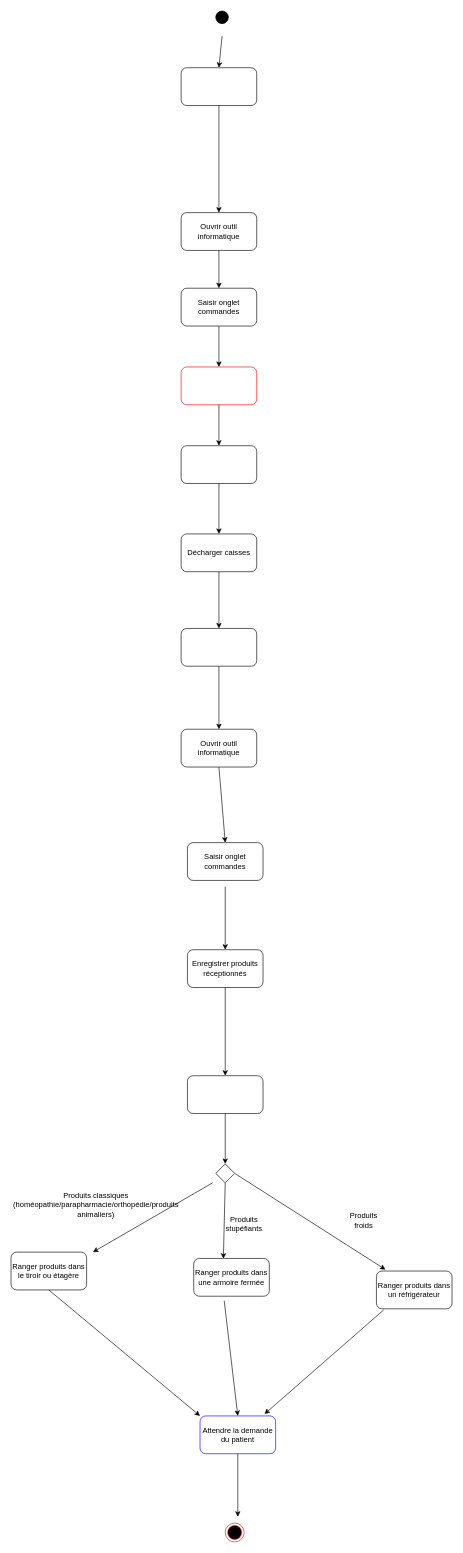
The diagram is 463 pixels wide and 1553 high, and some of its shapes have lost their labels. Here are the shapes that lost their labels. From the top down, the centre of each, then its label:
point (218, 86): S'occuper de la gestion des stocks
point (218, 385): Passer la commande auprès du fournisseur
point (218, 464): Accueillir le camion
point (218, 647): Réceptionner produits dans l'outil informatique
point (225, 1094): Ranger produits par ordre alphabétique
